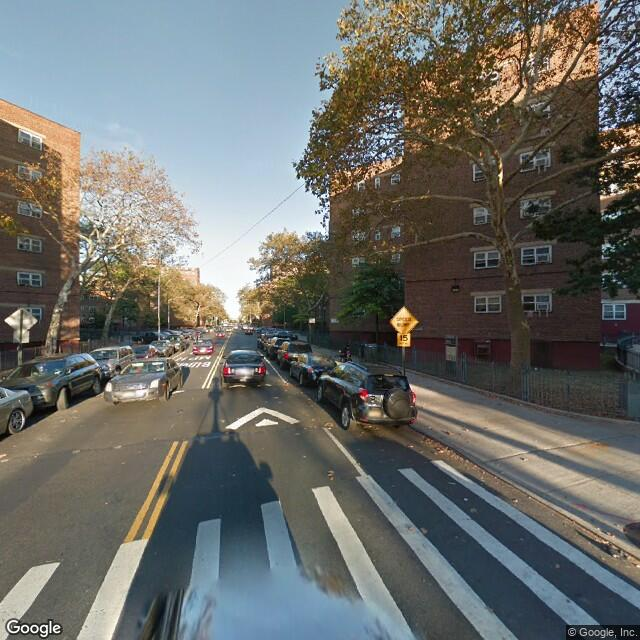litter: (463, 497, 466, 500)
